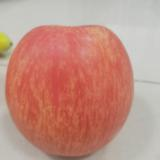apple: (6, 26, 134, 160)
